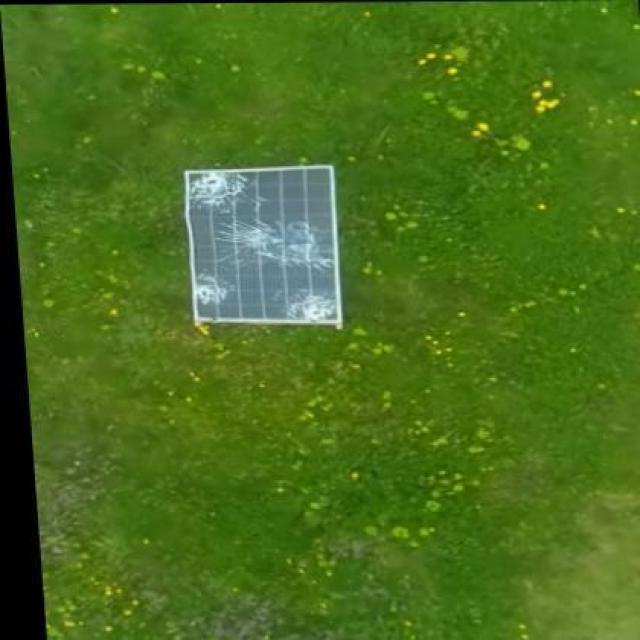cracked: (186, 165, 342, 328)
